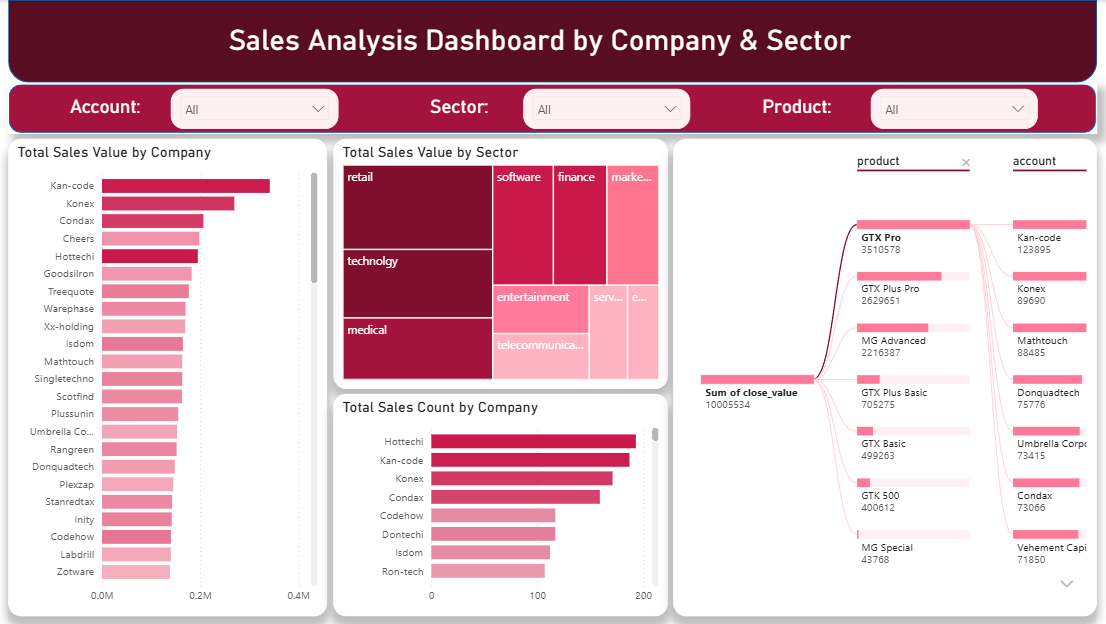

Layout of this report page (visuals, bound fields, positions):
{"tool":"powerbi","page":{"name":"Page 3","canvas":[1280,720],"ordinal":2},"visuals":[{"type":"shape","box":[13,0,1256.6,95.2],"z":0},{"type":"shape","box":[13,96.7,1256.6,57.7],"z":500},{"type":"treemap","title":"Total Sales Value by Sector","fields":{"Group":["accounts.sector"],"Values":["Sum(sales_pipeline.close_value)"]},"box":[388.1,160.1,386.7,288.6],"z":1000},{"type":"clusteredBarChart","title":"Total Sales Value by Company","fields":{"Category":["sales_pipeline.account"],"Y":["Sum(sales_pipeline.close_value)"]},"box":[13,160.1,367.9,551.1],"z":2000},{"type":"clusteredBarChart","title":"Total Sales Count by Company","fields":{"Category":["sales_pipeline.account"],"Y":["CountNonNull(sales_pipeline.close_value)"]},"box":[388.1,454.5,386.7,256.8],"z":3000},{"type":"decompositionTreeVisual","fields":{"ExplainBy":["sales_pipeline.product","sales_pipeline.account"],"Analyze":["Sum(sales_pipeline.close_value)"]},"box":[780.5,160.1,489.1,551.1],"z":4000},{"type":"slicer","fields":{"Values":["sales_pipeline.product"]},"box":[1008.5,102,193,46],"z":5000},{"type":"slicer","fields":{"Values":["sales_pipeline.account"]},"box":[200.5,102.4,193.3,46.2],"z":6000},{"type":"slicer","fields":{"Values":["accounts.sector"]},"box":[607.4,102,193,46],"z":7000},{"type":"textbox","box":[262.6,21.6,874.3,67.8],"z":7001},{"type":"textbox","box":[79.4,106,118.3,46.2],"z":7002},{"type":"textbox","box":[494.9,106,191.9,50.5],"z":7003},{"type":"textbox","box":[878.6,106,129.8,41.8],"z":7004}]}

Visuals, with their boxes in screenshot pixels (x1, y1, x2, y2), scaled from the page's 1280x720 canvas onto the 1106x624 screenshot:
shape: region(11, 0, 1097, 83)
shape: region(11, 84, 1097, 134)
"Total Sales Value by Sector" treemap: region(335, 139, 669, 389)
"Total Sales Value by Company" clusteredBarChart: region(11, 139, 329, 616)
"Total Sales Count by Company" clusteredBarChart: region(335, 394, 669, 616)
decompositionTreeVisual - sales_pipeline.product x sales_pipeline.account: region(674, 139, 1097, 616)
slicer - sales_pipeline.product: region(871, 88, 1038, 128)
slicer - sales_pipeline.account: region(173, 89, 340, 129)
slicer - accounts.sector: region(525, 88, 692, 128)
textbox: region(227, 19, 982, 77)
textbox: region(69, 92, 171, 132)
textbox: region(428, 92, 593, 136)
textbox: region(759, 92, 871, 128)
